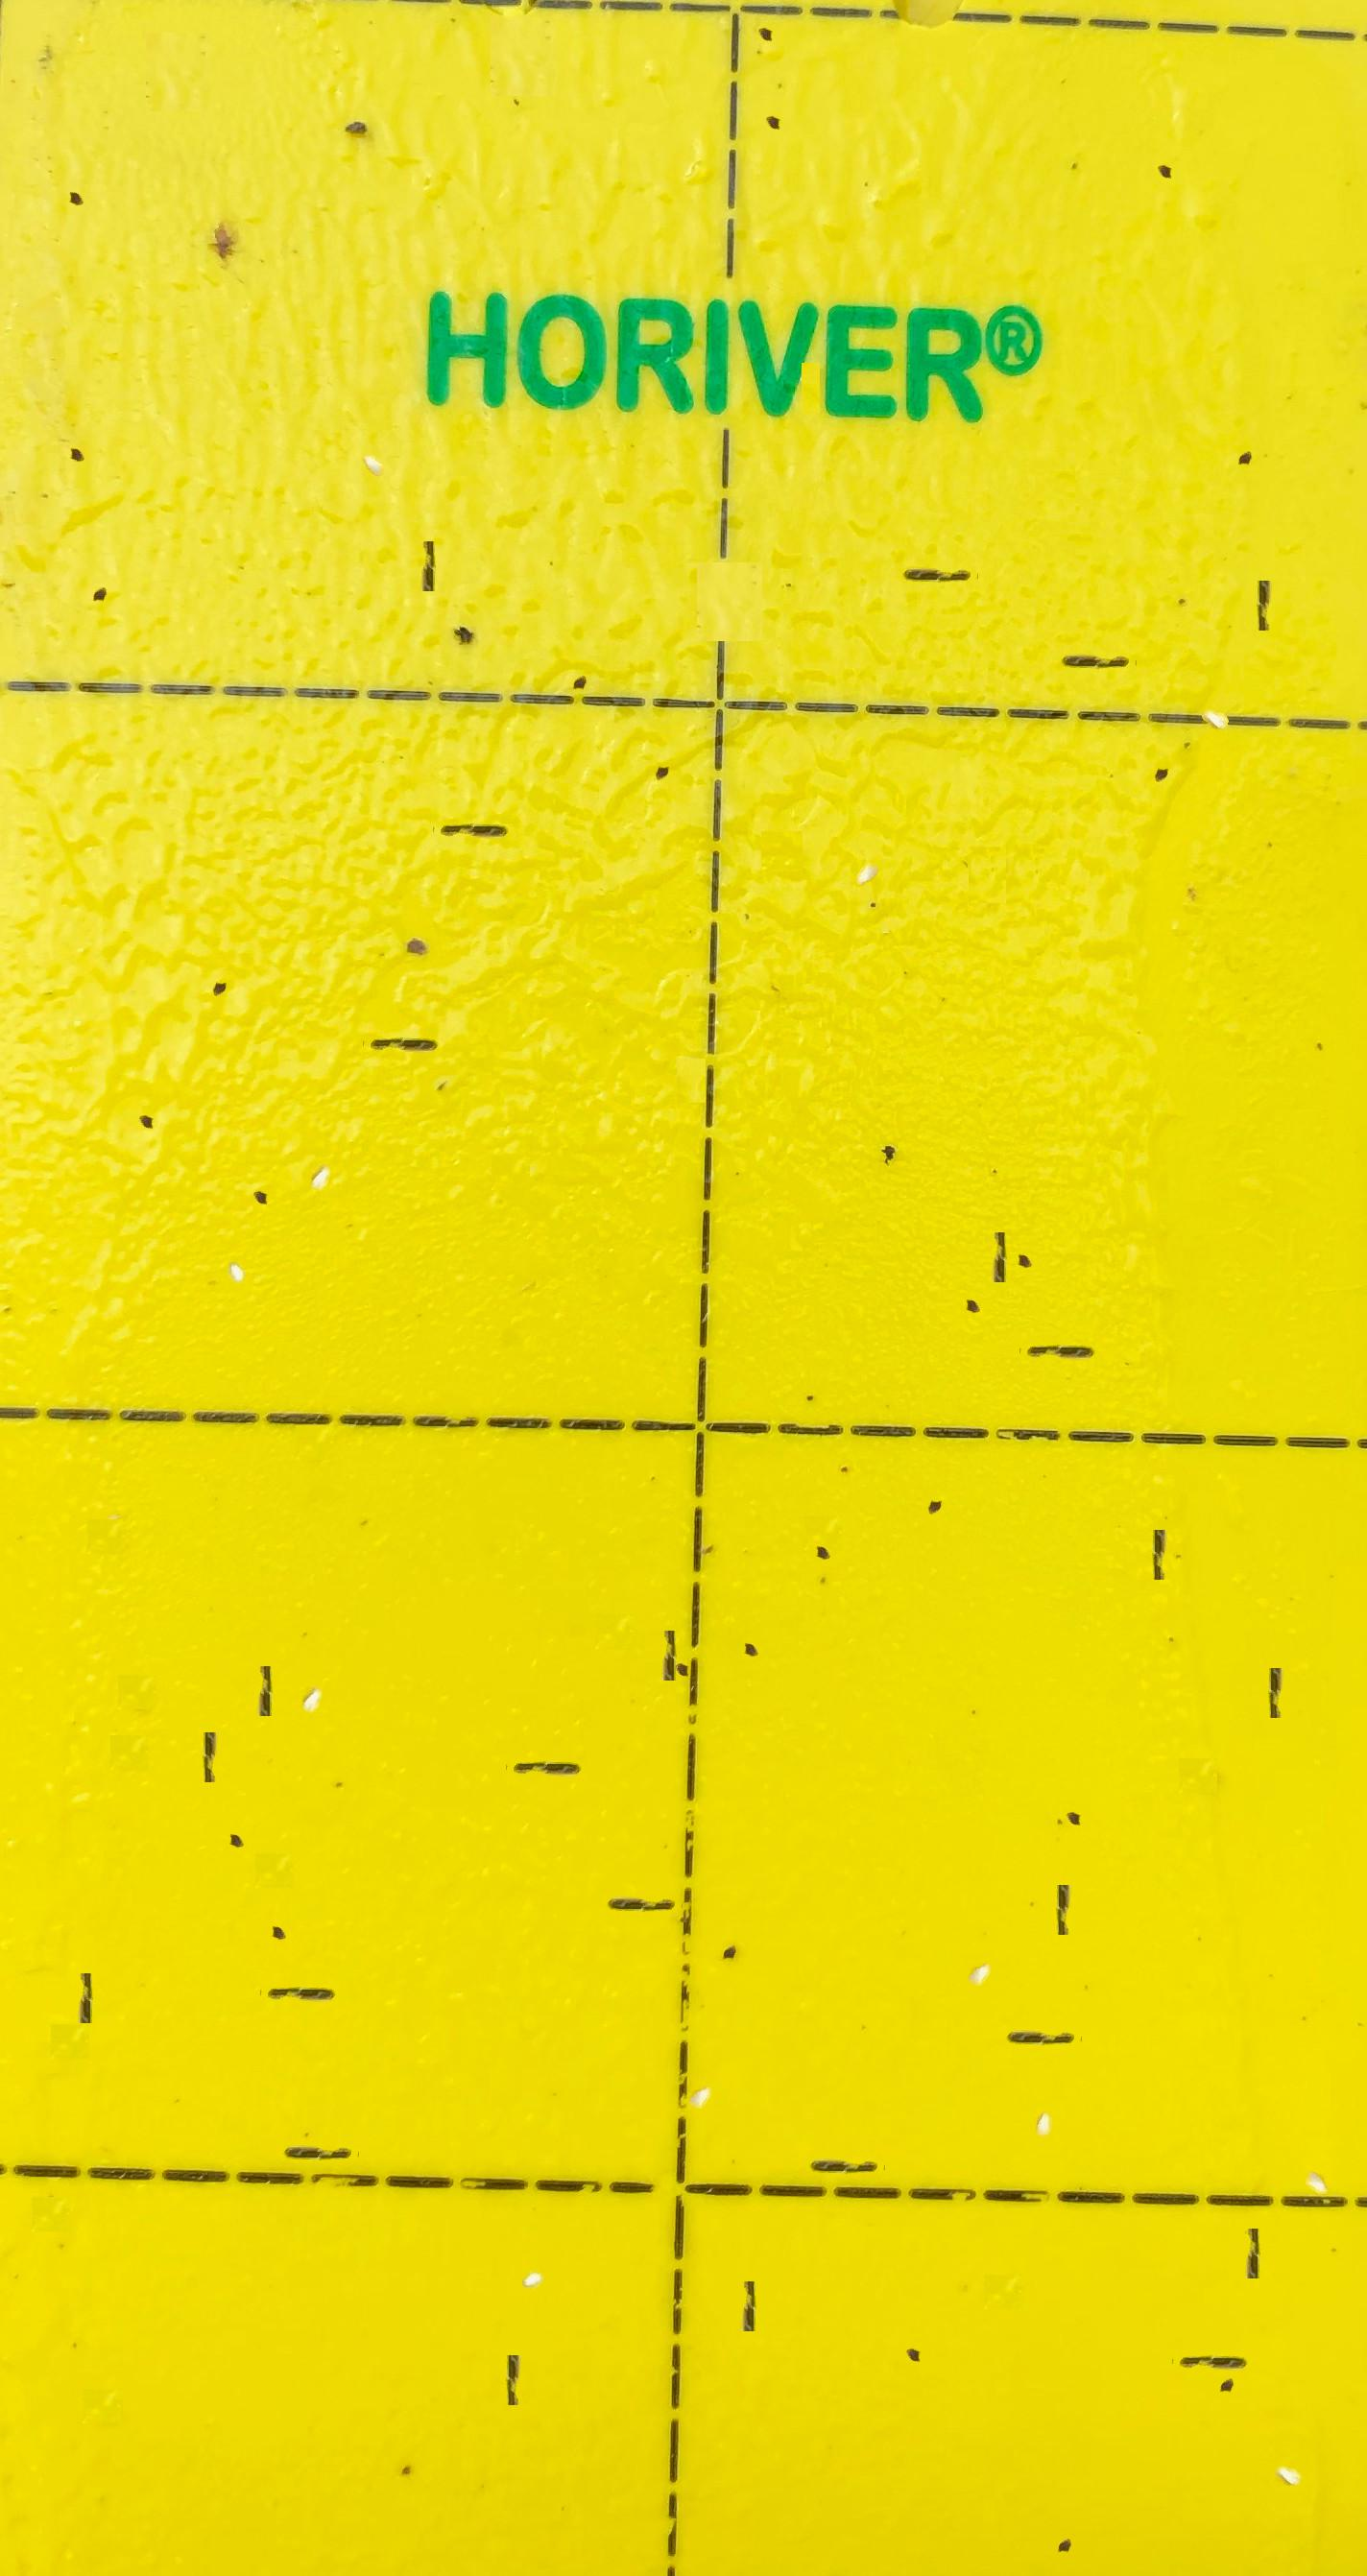white_fly: (513, 2208, 556, 2256), (215, 1201, 257, 1249), (302, 1113, 344, 1159), (847, 808, 890, 852), (1197, 651, 1239, 695), (353, 400, 395, 445), (1270, 2407, 1312, 2452), (293, 1636, 336, 1680), (678, 2034, 721, 2077), (1295, 2118, 1338, 2160), (958, 1912, 1001, 1954), (1021, 2070, 1062, 2107)
